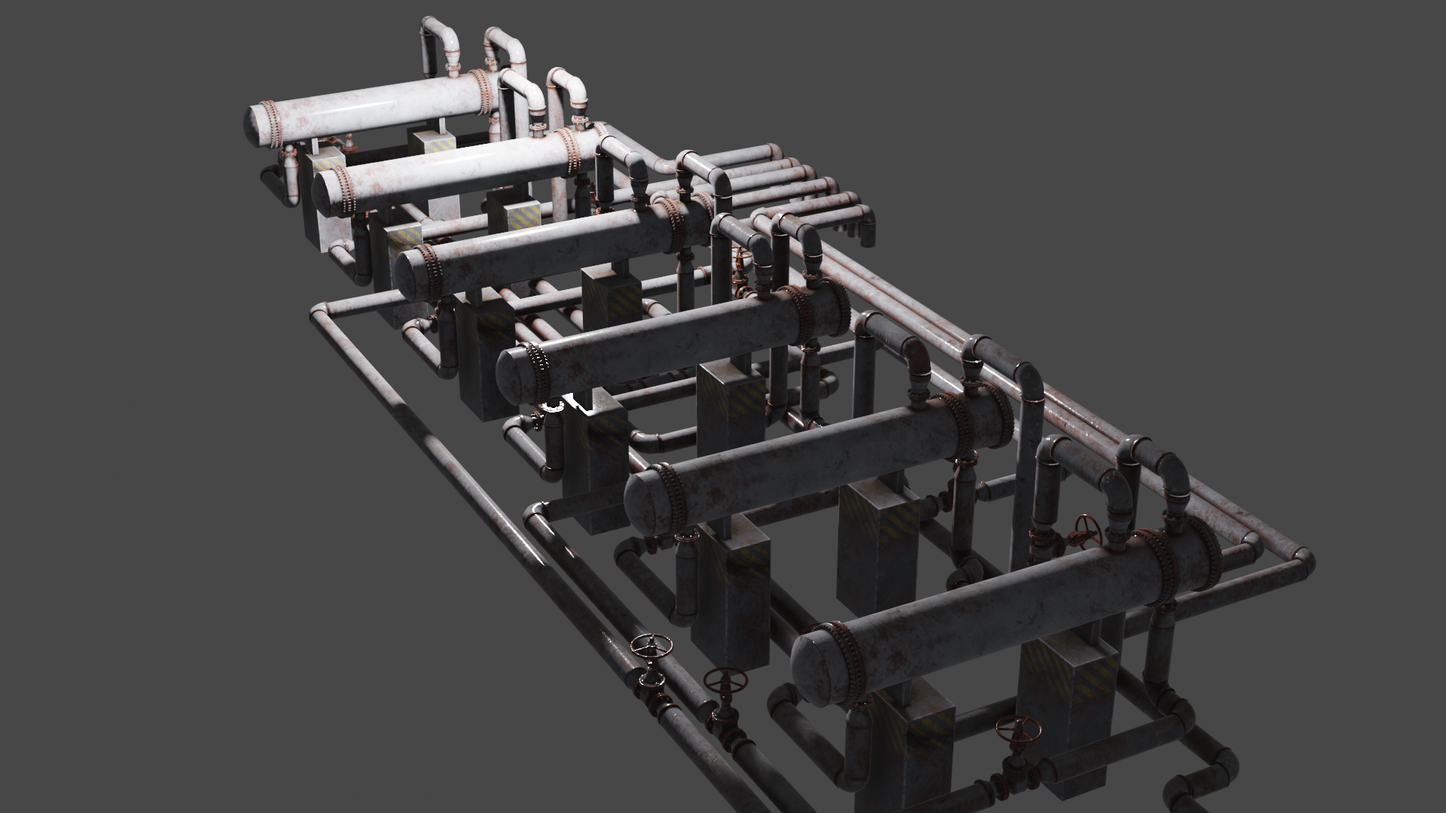HE_1: (785, 511, 1230, 713)
HE_2: (624, 381, 1012, 541)
HE_3: (494, 273, 851, 414)
HE_4: (390, 191, 711, 302)
HE_5: (305, 117, 600, 219)
HE_6: (240, 64, 503, 149)
